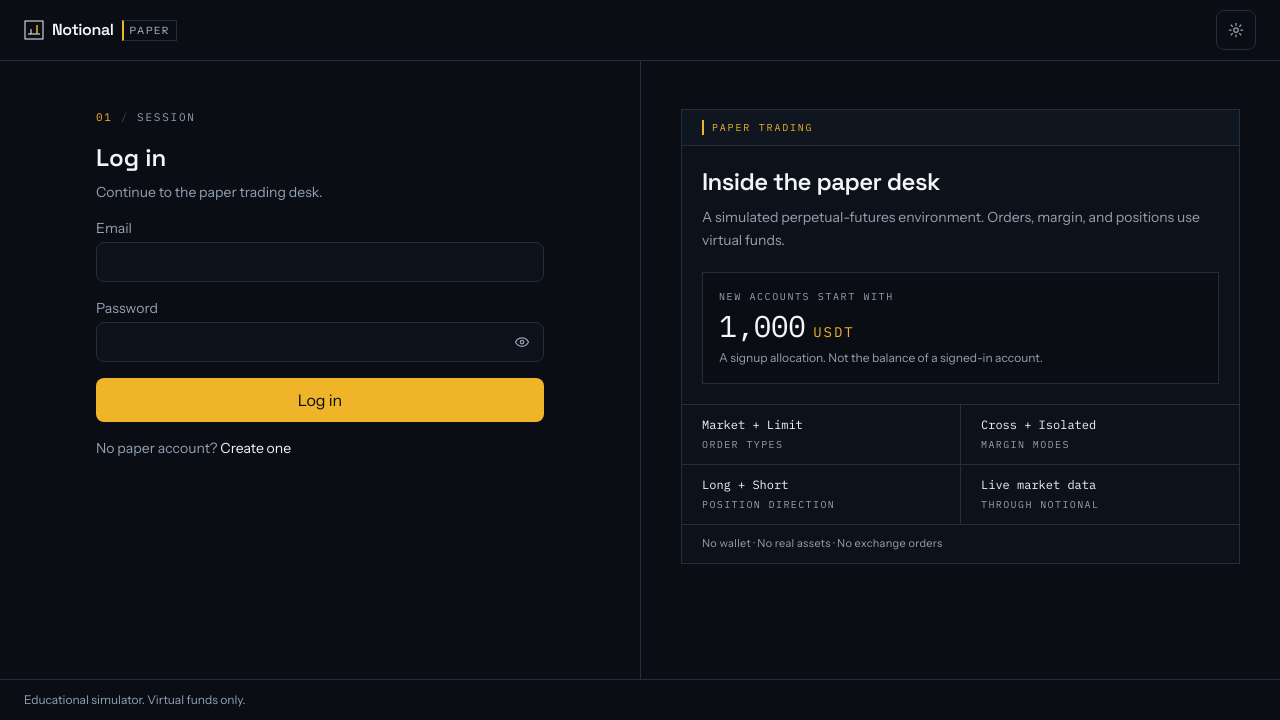
Test: auth pages › sign in › disables all form controls while submission is pending
This screenshot has width=1280, height=720.
Type "ada@example.com" into the field labelled "Email" at (320, 262), box [96,242,544,282]
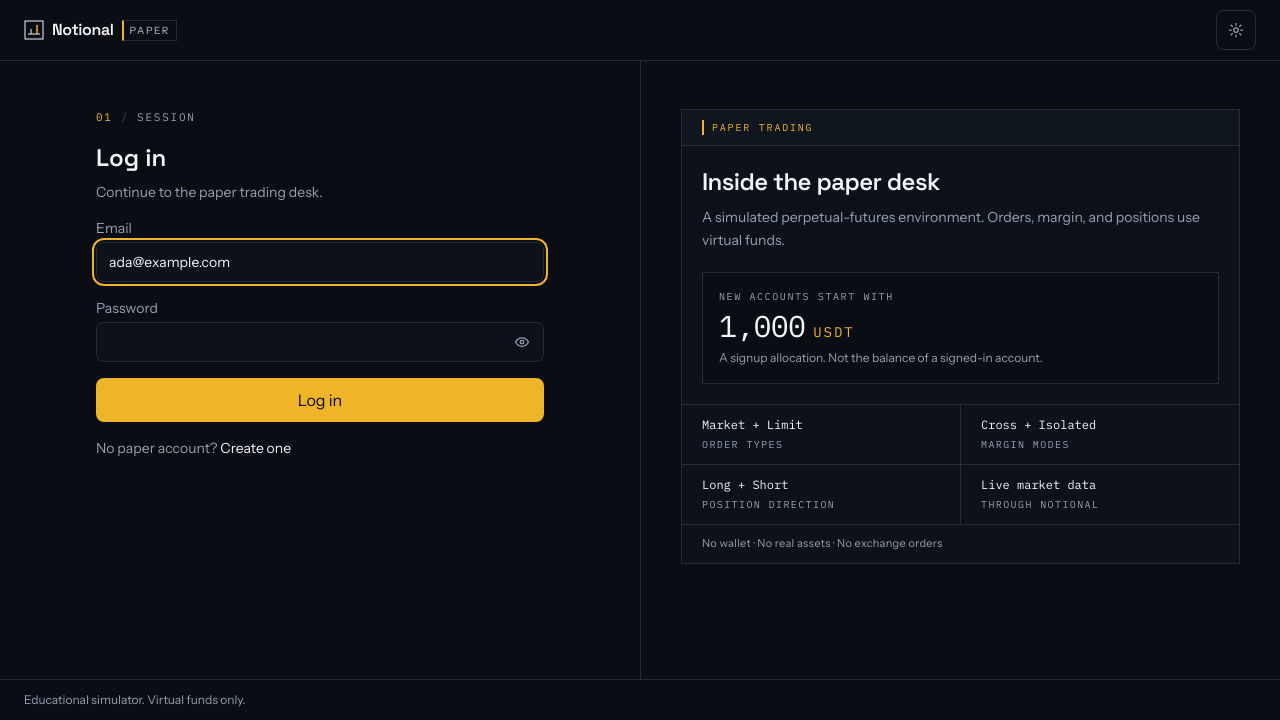
Type "password1" into the password field labelled "Password" at (320, 342), box [96,322,544,362]
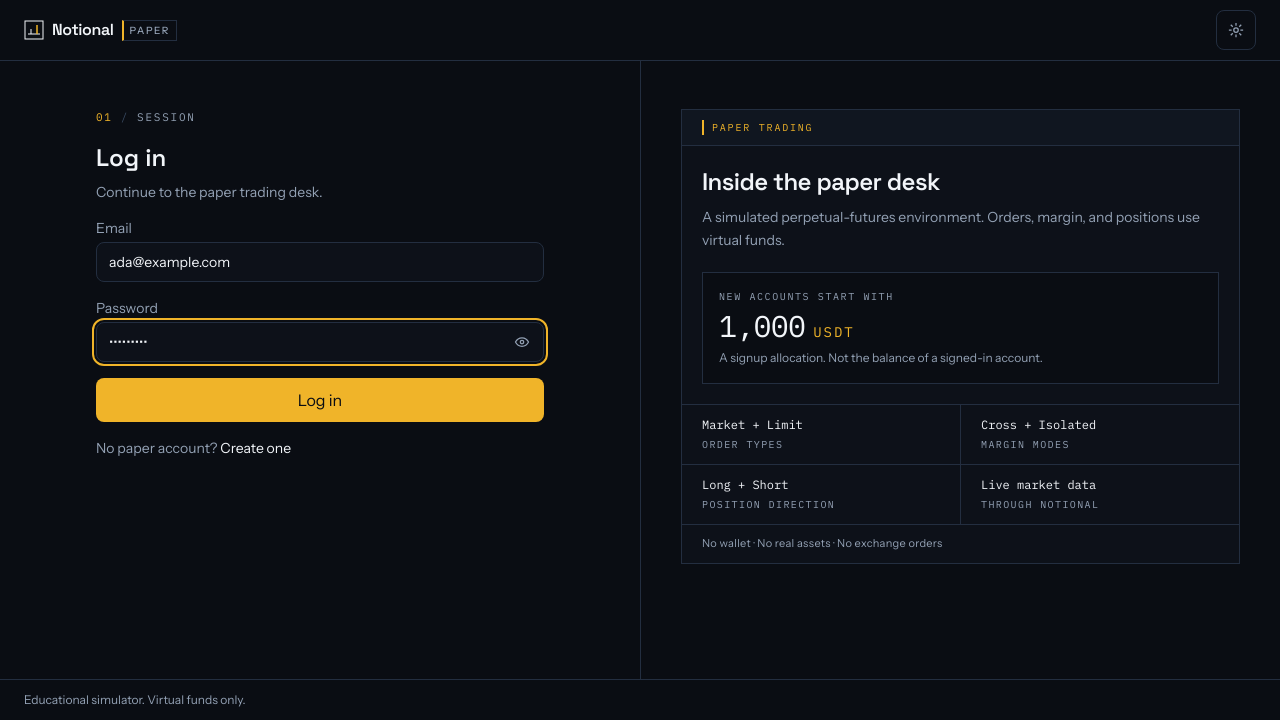
Submit the form labelled "Email", box [96,109,544,458]
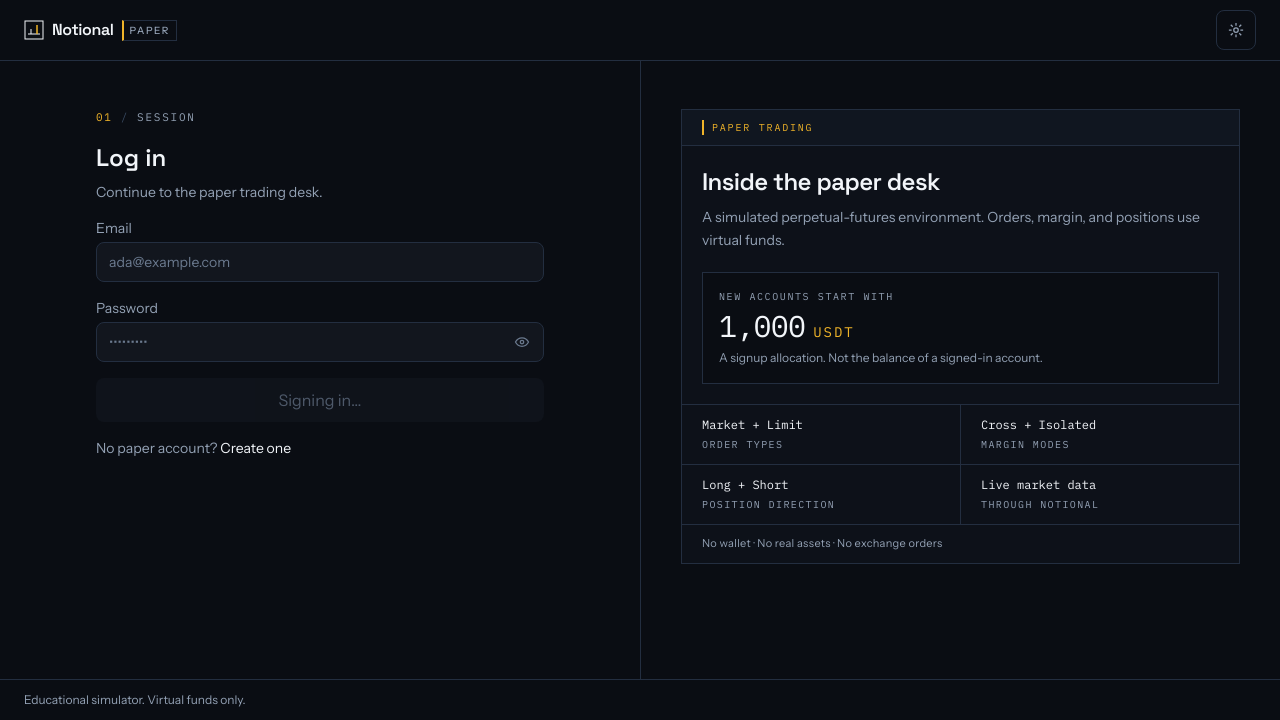
expect the field labelled "Email" is disabled: met, box [96,242,544,282]
expect the password field labelled "Password" is disabled: met, box [96,322,544,362]
expect the button "Signing in…" is disabled: met, box [96,378,544,422]
